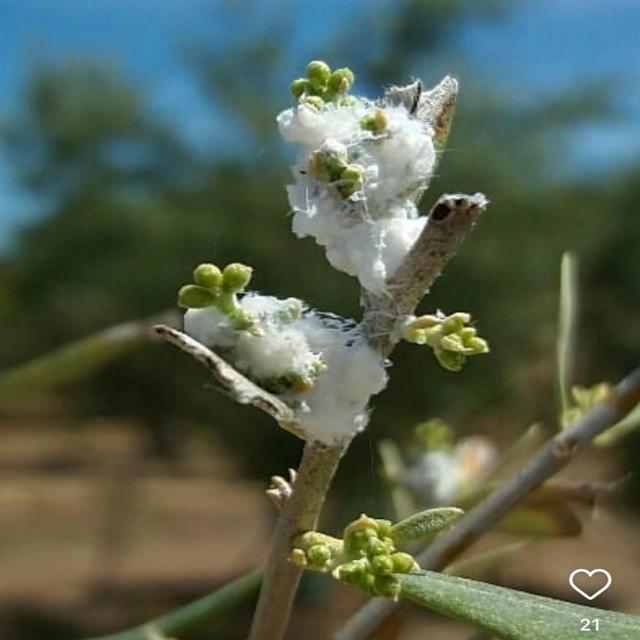Psyllid: (153, 264, 419, 446), (277, 61, 457, 300)
